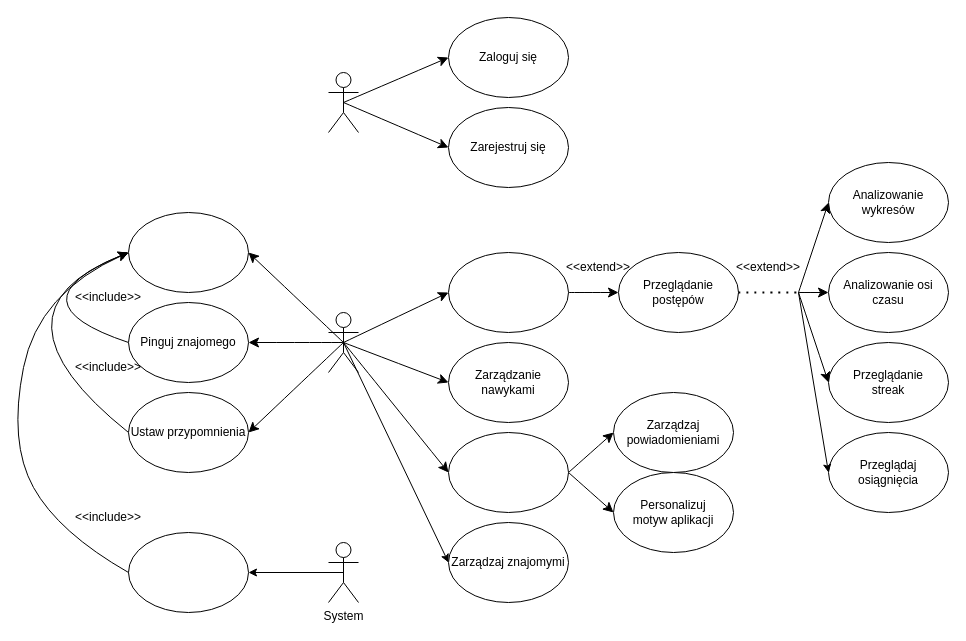
Image size: 966x641. Some labels were removed from this diagram. Each missing label, with the centre of its shape:
Niezalogowany użytkownik: point 343,102
Otrzymaj powiadomienie: point 188,252
Przeglądanie nawyków: point 508,292
Użytkownik: point 343,342
Wyślij powiadomienie: point 188,572
Zarządzaj aplikacją: point 508,472
